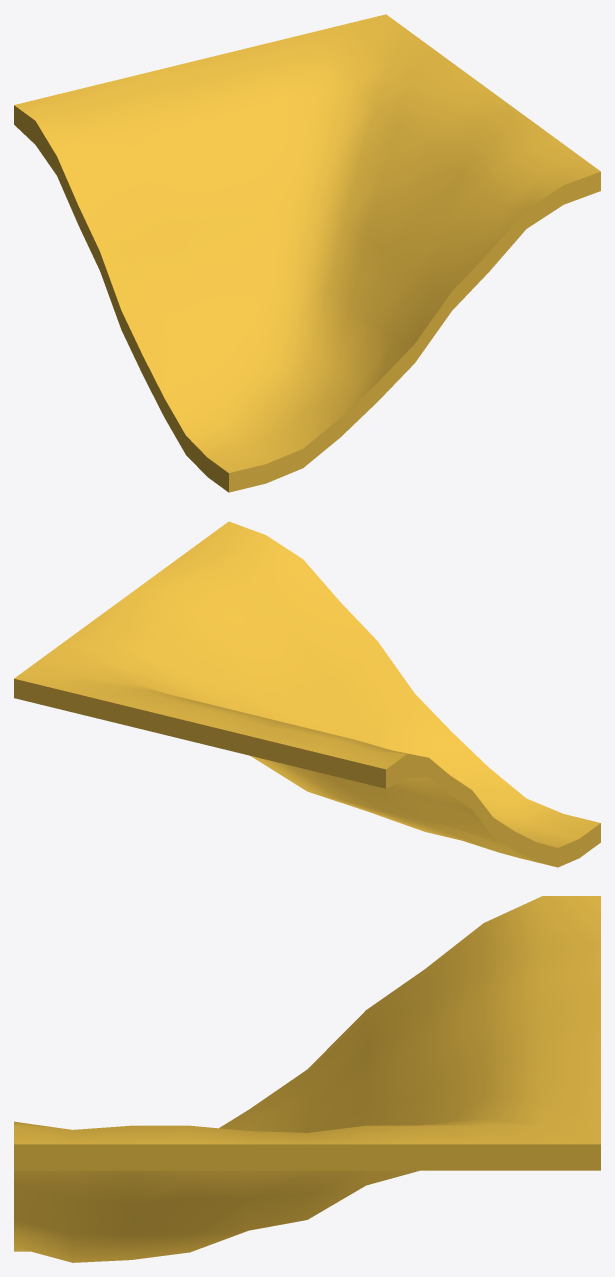
The model's file is Steil - Unten - Ecke Invertiert a - a.fbx.
3 views of the same model, one above another, from view 1: azimuth 30°, elevation 25°; view 2: azimuth 150°, elevation 25°; view 3: azimuth 270°, elevation 25° (orthographic). The views are drawn at different scales.
Visible parts, largest first — view 1: Steil - Unten - Ecke Invertiert a - a; view 2: Steil - Unten - Ecke Invertiert a - a; view 3: Steil - Unten - Ecke Invertiert a - a.
Boxes of the visible parts, box(x1,y1,x2,y2) form: Steil - Unten - Ecke Invertiert a - a: box(14, 14, 600, 492); Steil - Unten - Ecke Invertiert a - a: box(14, 521, 600, 867); Steil - Unten - Ecke Invertiert a - a: box(14, 896, 600, 1262).
Size of the model in its own units: 394 by 233 by 394.
